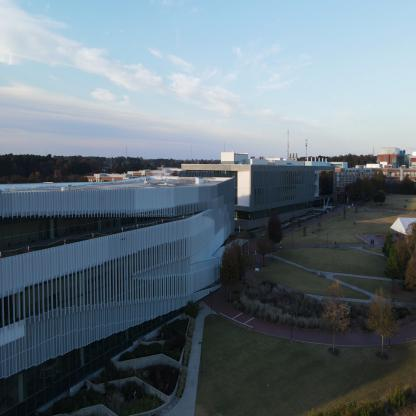Fitts- Woolard: (236, 144, 340, 244)
Hunt Library: (0, 152, 236, 416)
